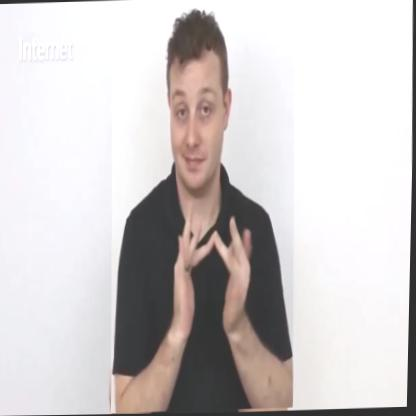Internet: (105, 3, 301, 413)
